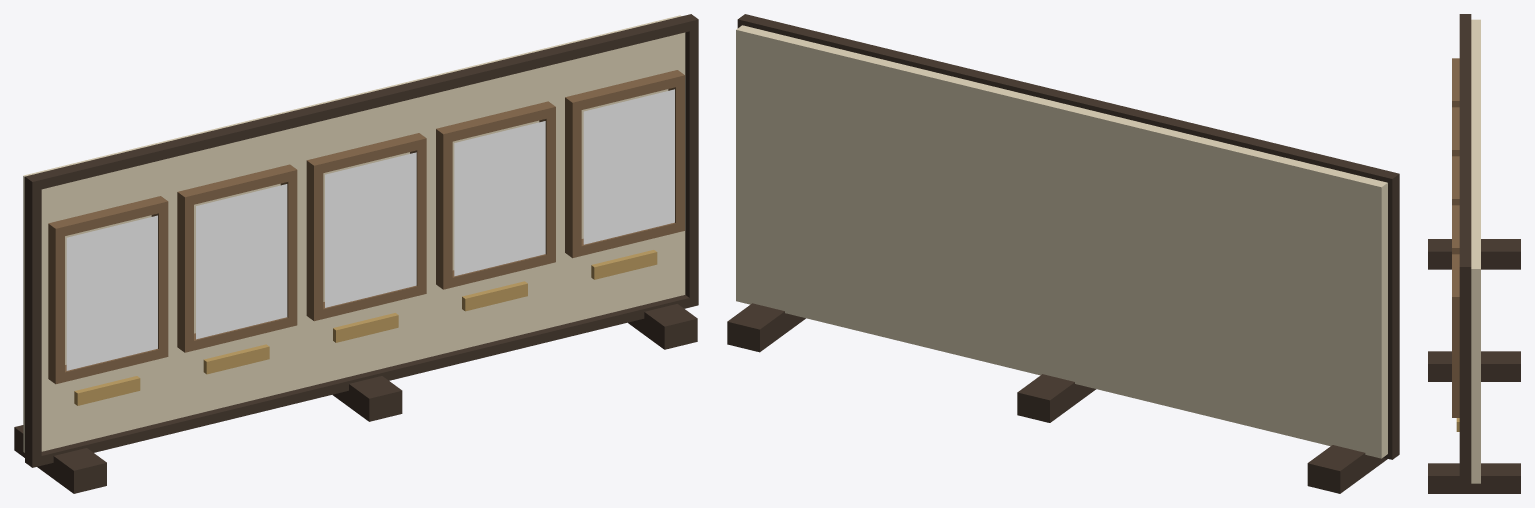
File: 02_Five_Artwork_Wall.fbx
3 renders of one model, left to right at view 1: azimuth 30°, elevation 25°; view 2: azimuth 150°, elevation 25°; view 3: azimuth 270°, elevation 25°, orthographic. The views are drawn at different scales.
Parts seen in each view (by area): view 1: Structure, Artwork_02, Artwork_01, Artwork_03, Artwork_04, Artwork_05; view 2: Structure; view 3: Structure.
Boxes of the visible parts, x1,y1,x2,y2 form: Structure: [14, 14, 698, 493]; Artwork_02: [196, 184, 287, 339]; Artwork_01: [66, 215, 157, 370]; Artwork_03: [325, 152, 416, 307]; Artwork_04: [454, 121, 545, 276]; Artwork_05: [583, 89, 674, 244]; Structure: [727, 14, 1399, 493]; Structure: [1428, 14, 1520, 493].
Bounding box in the file's own units: 722 × 313 × 112.
